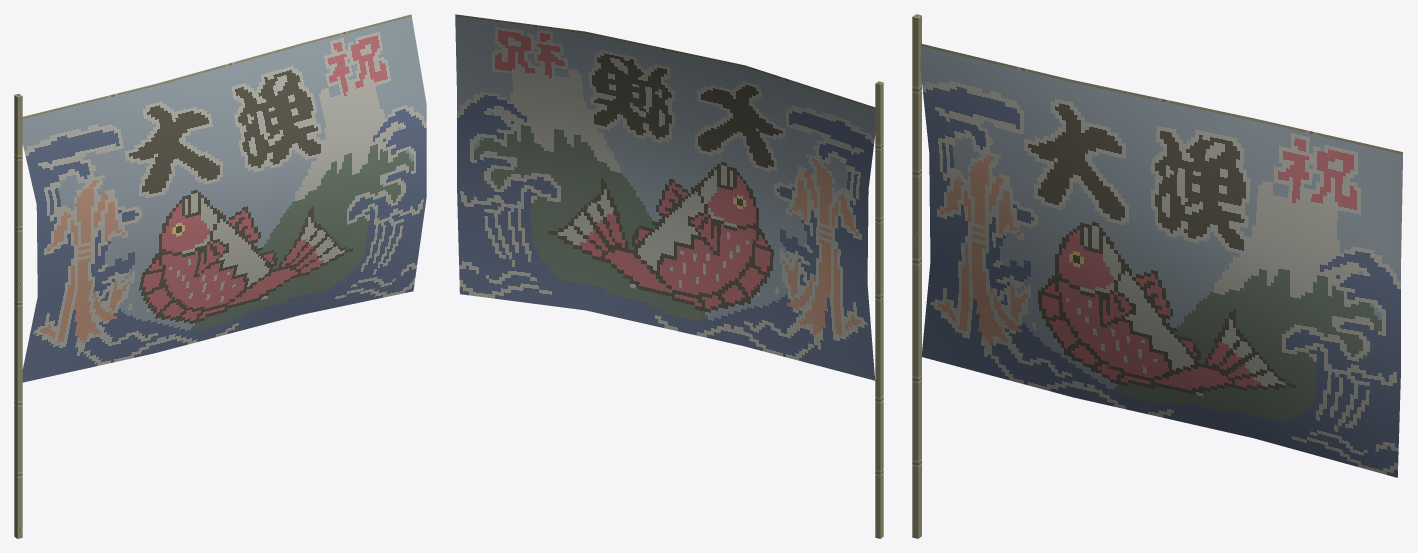
Rendered from 028b_Rich_Haul_Flag_3.glb.
3 views of the same model, side by side, from view 1: azimuth 30°, elevation 25°; view 2: azimuth 150°, elevation 25°; view 3: azimuth 330°, elevation 25° (orthographic). The views are drawn at different scales.
Visible parts, largest first — view 1: part_0; view 2: part_0; view 3: part_0.
Part boxes in pixels (x1,y1,x2,y2): part_0: (14, 14, 426, 538); part_0: (455, 14, 883, 538); part_0: (912, 14, 1402, 538).
Bounding box in the file's own units: 6.53 × 6.69 × 0.6193.
Materials: 1 (1 with a texture image).
